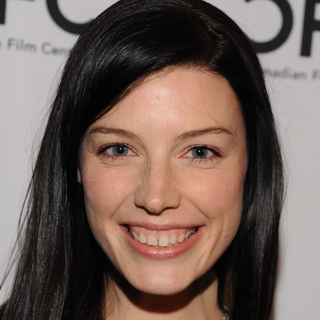eye: (174, 142, 228, 165), (94, 141, 142, 162)
